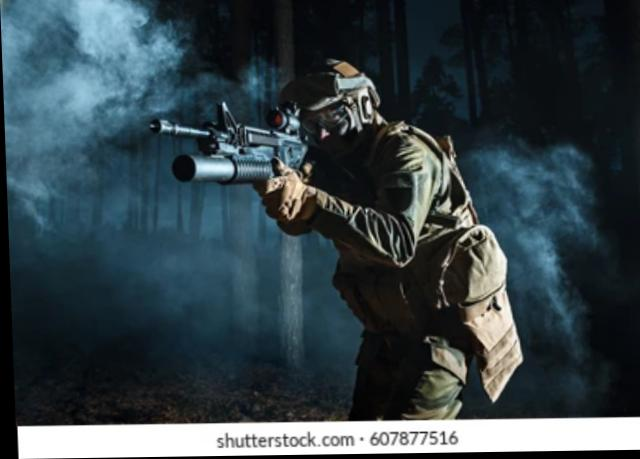other: (258, 48, 508, 412)
